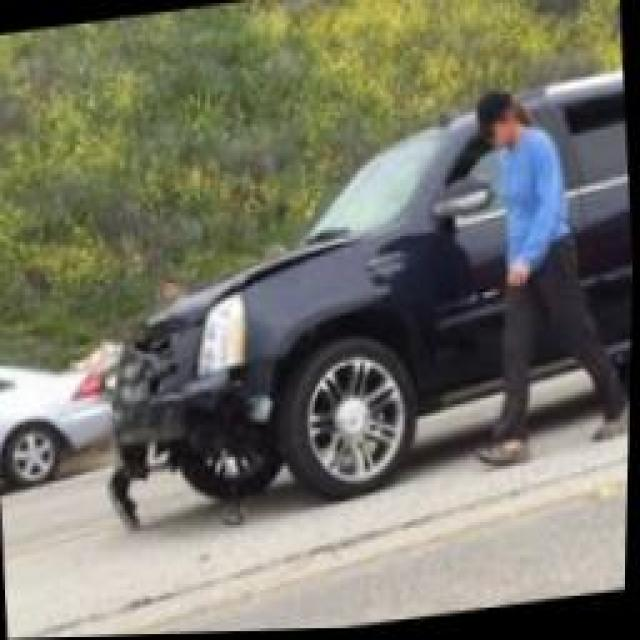Bonnet: (94, 240, 360, 341)
Bumper: (110, 366, 273, 529)
